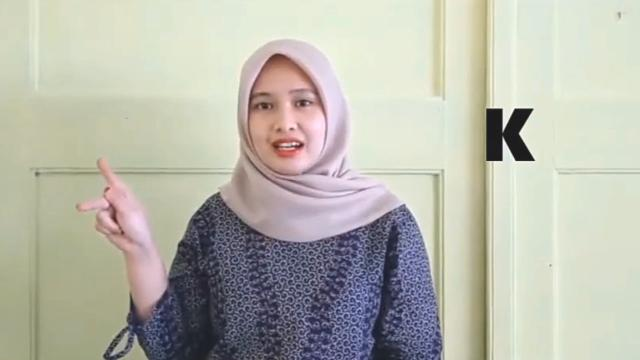K: (74, 156, 150, 256)
